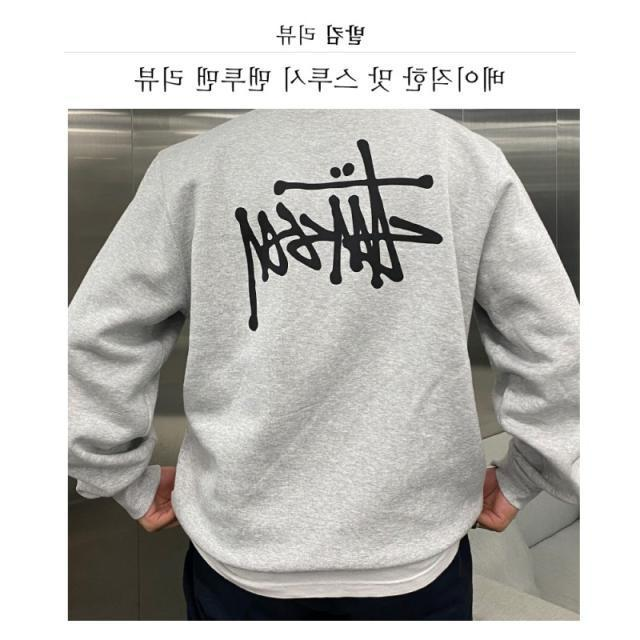sweater: (67, 108, 581, 575)
